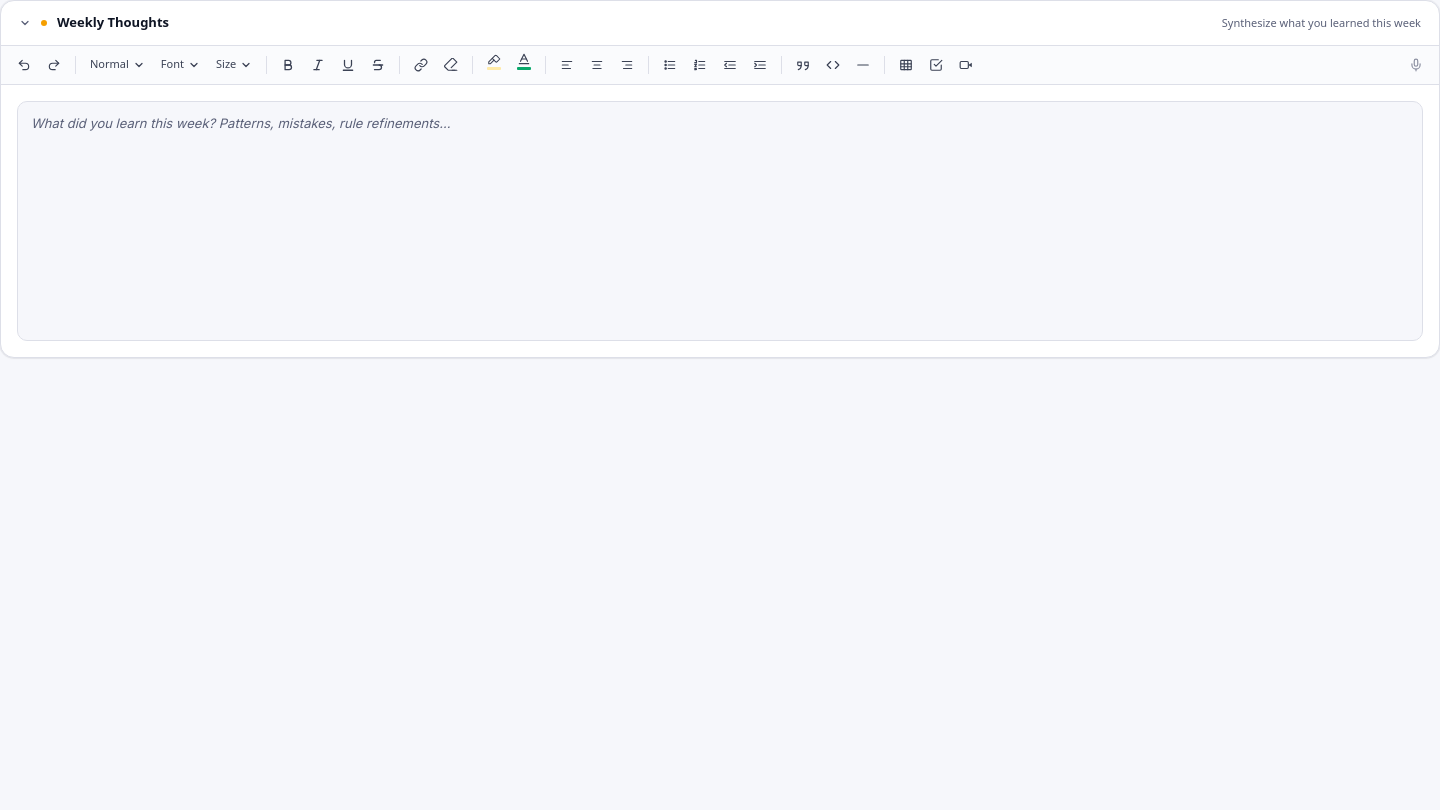
Test case: WeeklyThoughts — Phase 3.5 expansion › Link popover Cancel button closes the popover
Click the button named "Insert link".
click(421, 64)  # box left=408, top=52, right=434, bottom=78
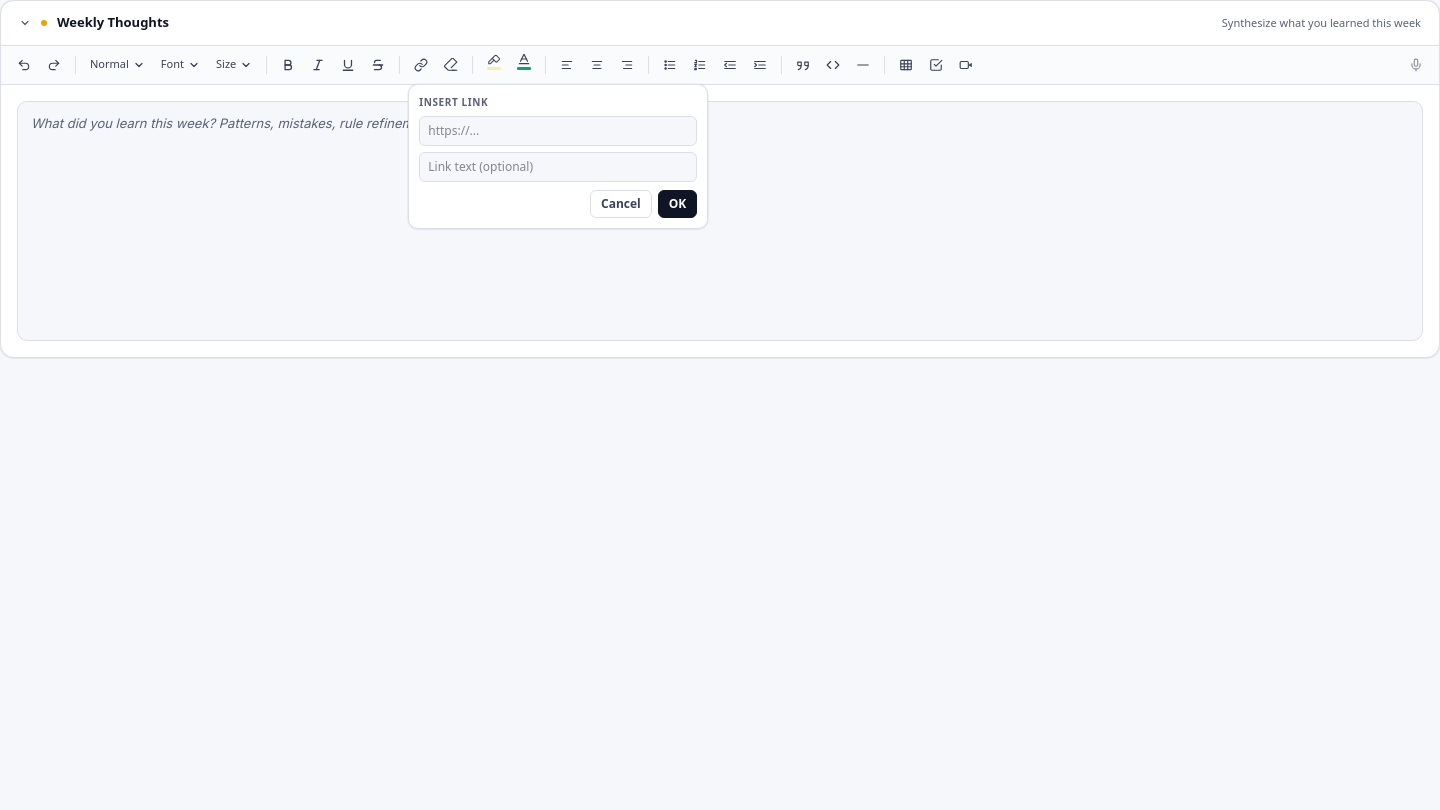
Expected: the dialog "Insert link Cancel OK" is shown, left=408, top=84, right=708, bottom=228
Click the button "Cancel".
click(621, 204)  # box left=590, top=190, right=652, bottom=218
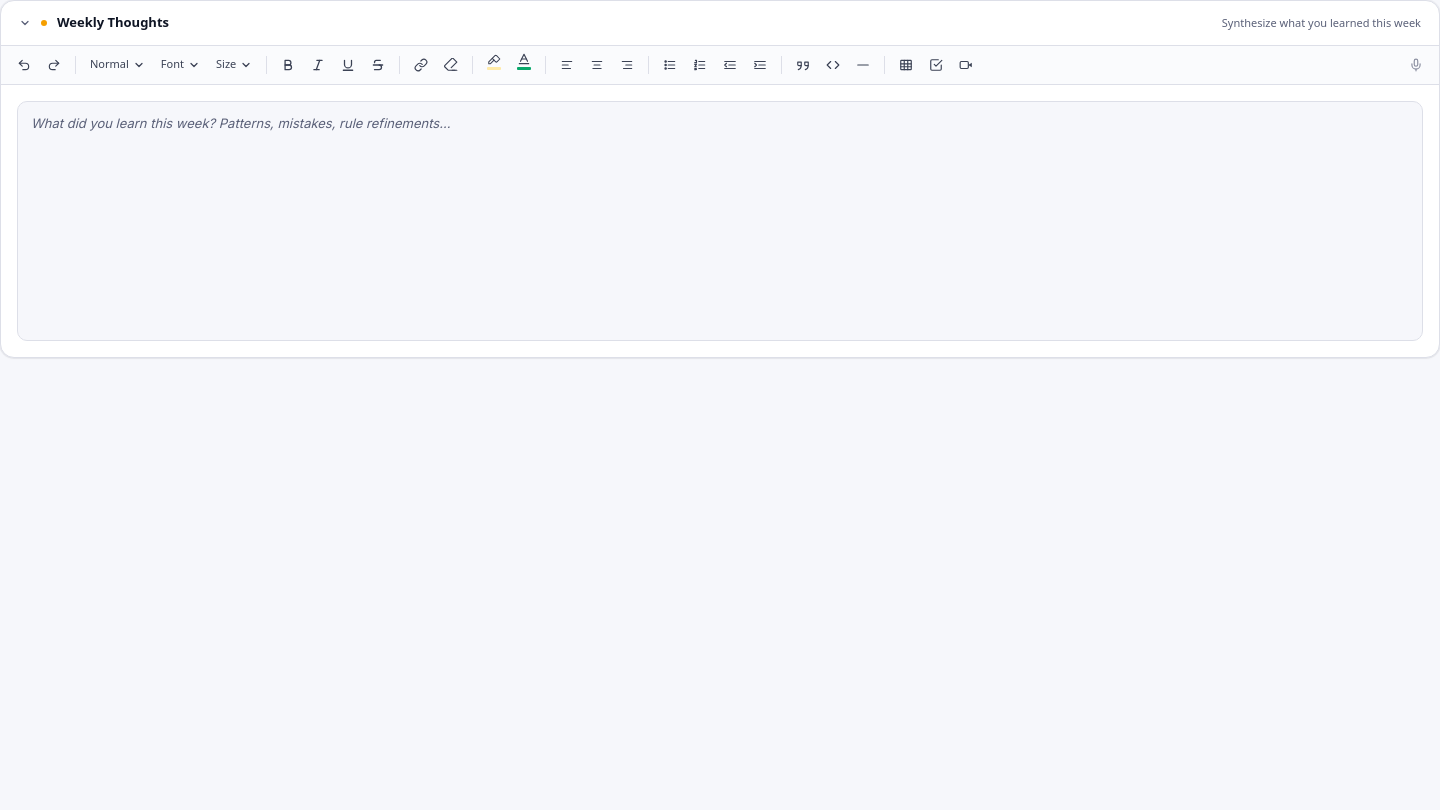
Expected: the text "Insert link" is gone
